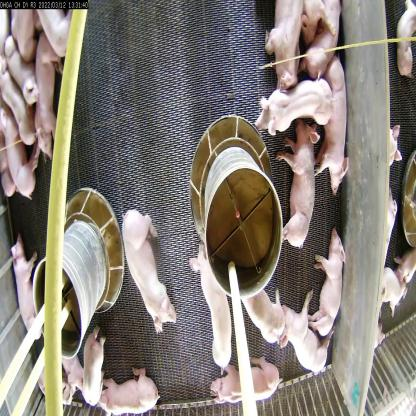Pig: (182, 232, 237, 366), (272, 118, 326, 254), (122, 209, 176, 335), (281, 298, 337, 384), (257, 79, 332, 139), (210, 356, 280, 416), (324, 56, 352, 197), (11, 236, 46, 348), (311, 226, 346, 335), (238, 277, 286, 351), (260, 0, 301, 86), (35, 41, 61, 170), (0, 72, 38, 157), (94, 365, 157, 415), (0, 107, 33, 199), (5, 28, 44, 102), (31, 0, 75, 59), (80, 317, 106, 414)
